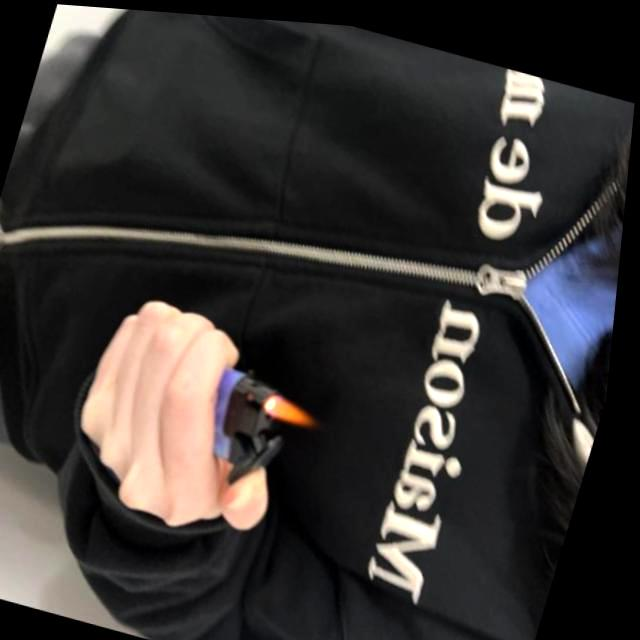fire: (264, 384, 328, 428)
